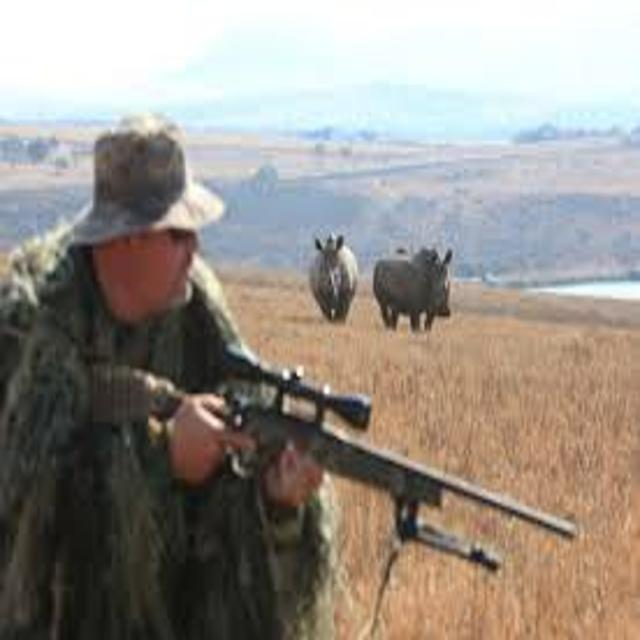gun: (53, 323, 591, 594)
poacher: (1, 93, 601, 635)
rhino: (361, 217, 487, 350), (273, 211, 377, 335)
